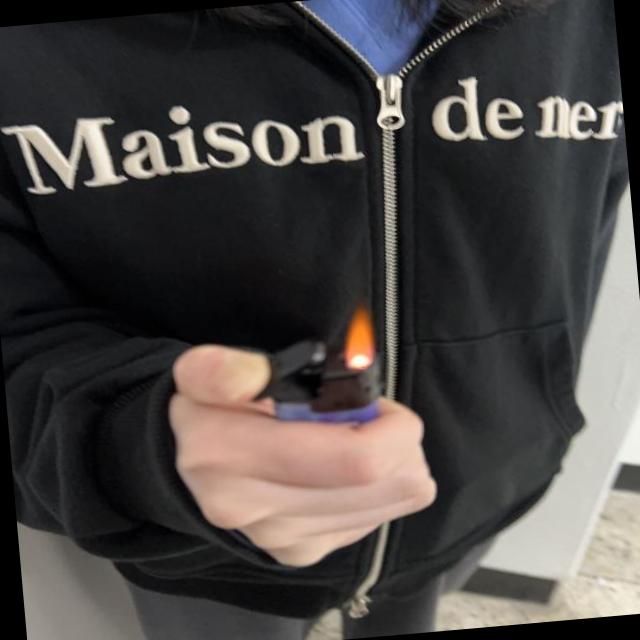Fire: (339, 302, 377, 371)
